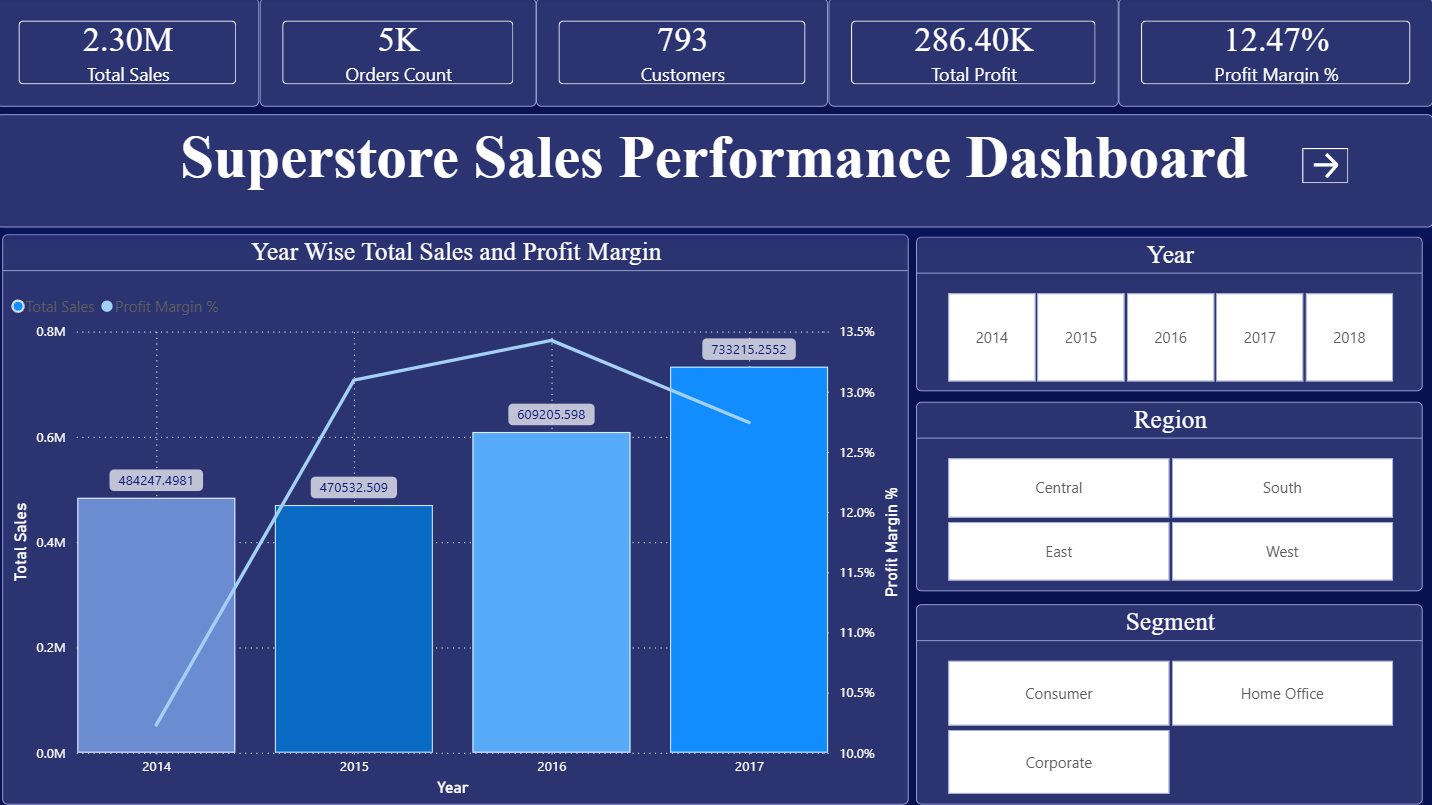

This screenshot's page, from the dashboard's own definition file:
{"tool":"powerbi","page":{"name":"Overview","canvas":[1280,720],"ordinal":0},"visuals":[{"type":"cardVisual","fields":{"Data":["Orders.Total Sales"]},"box":[0,0,234.5,97],"z":0},{"type":"cardVisual","fields":{"Data":["Orders.Total Profit"]},"box":[741.2,0,258.8,97],"z":1000},{"type":"cardVisual","fields":{"Data":["Orders.Profit Margin %"]},"box":[1000,0,280.3,97],"z":2000},{"type":"cardVisual","fields":{"Data":["Orders.Orders Count"]},"box":[234.5,0,246.6,97],"z":3000},{"type":"cardVisual","fields":{"Data":["Orders.Customers"]},"box":[481.1,0,260.1,97],"z":4000},{"type":"lineClusteredColumnComboChart","title":" Year Wise Total Sales and Profit Margin ","fields":{"Category":["Date.Year"],"Y":["Orders.Total Sales"],"Y2":["Orders.Profit Margin %"]},"box":[5.4,210.2,807.2,508.1],"z":5000},{"type":"slicer","title":"Year","fields":{"Values":["Date.Year"]},"box":[819.3,212.3,451.5,137.9],"z":6000},{"type":"slicer","title":"Region","fields":{"Values":["Orders.Region"]},"box":[819.3,359.6,451.5,169],"z":7000},{"type":"slicer","title":"Segment","fields":{"Values":["Orders.Segment"]},"box":[819.3,539.4,451.5,178.5],"z":8000},{"type":"textbox","box":[0,103.8,1280,101.1],"z":9000},{"type":"actionButton","box":[1163.6,133.1,41.2,31.6],"z":9001}]}

Visuals, with their boxes in screenshot pixels (x1, y1, x2, y2), scaled from the page's 1280x720 canvas onto the 1432x805 screenshot:
cardVisual - Orders.Total Sales: (0, 0, 262, 108)
cardVisual - Orders.Total Profit: (829, 0, 1119, 108)
cardVisual - Orders.Profit Margin %: (1119, 0, 1431, 108)
cardVisual - Orders.Orders Count: (262, 0, 538, 108)
cardVisual - Orders.Customers: (538, 0, 829, 108)
" Year Wise Total Sales and Profit Margin " lineClusteredColumnComboChart: (6, 235, 909, 803)
"Year" slicer: (917, 237, 1422, 392)
"Region" slicer: (917, 402, 1422, 591)
"Segment" slicer: (917, 603, 1422, 803)
textbox: (0, 116, 1431, 229)
actionButton: (1302, 149, 1348, 184)
